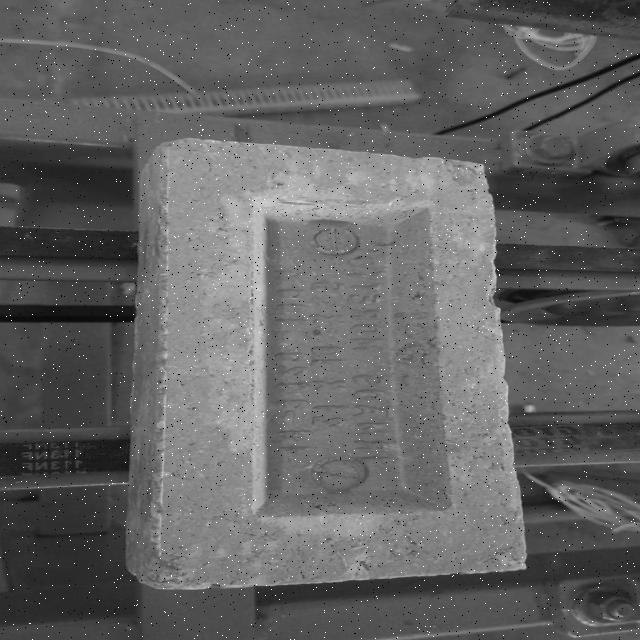bricks: (124, 135, 528, 592)
